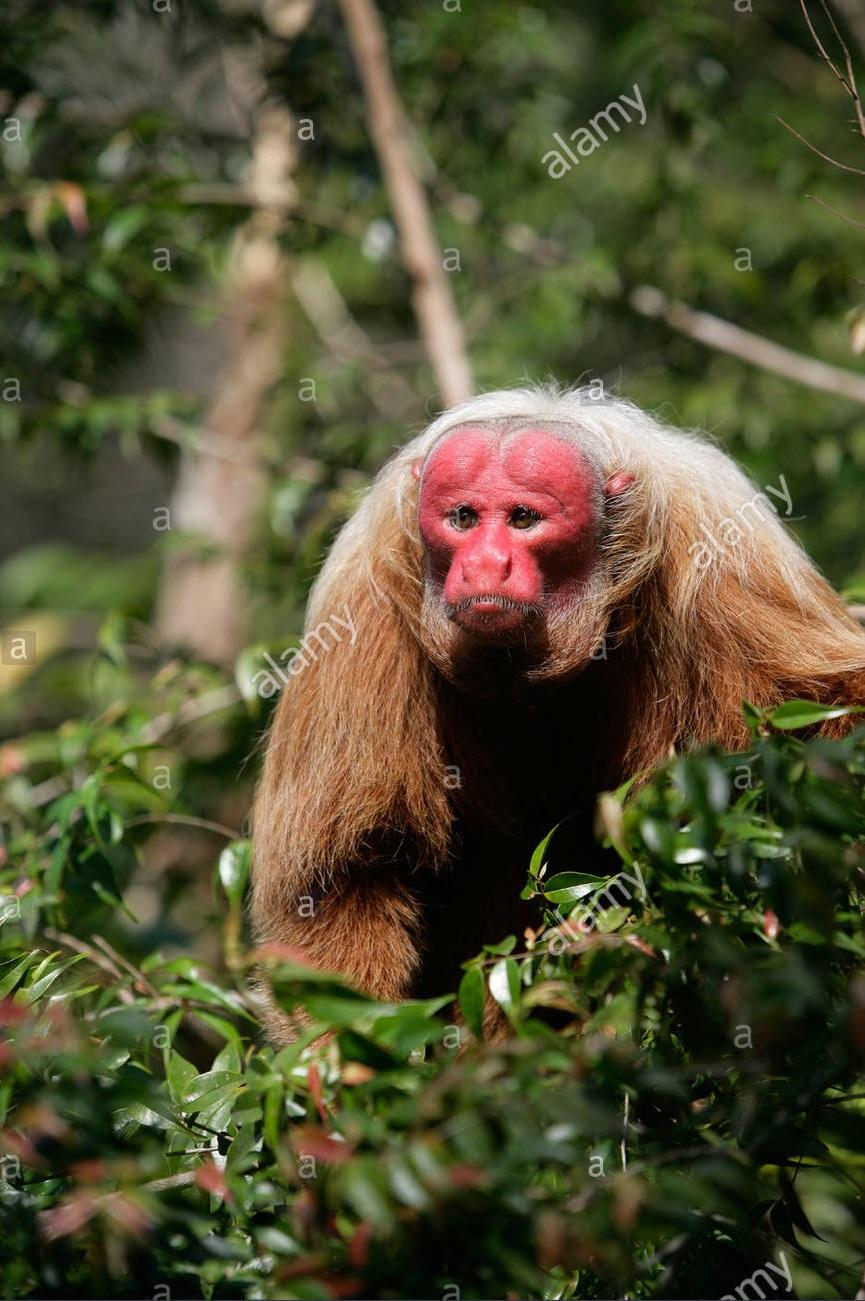monkey: (250, 389, 865, 1008)
